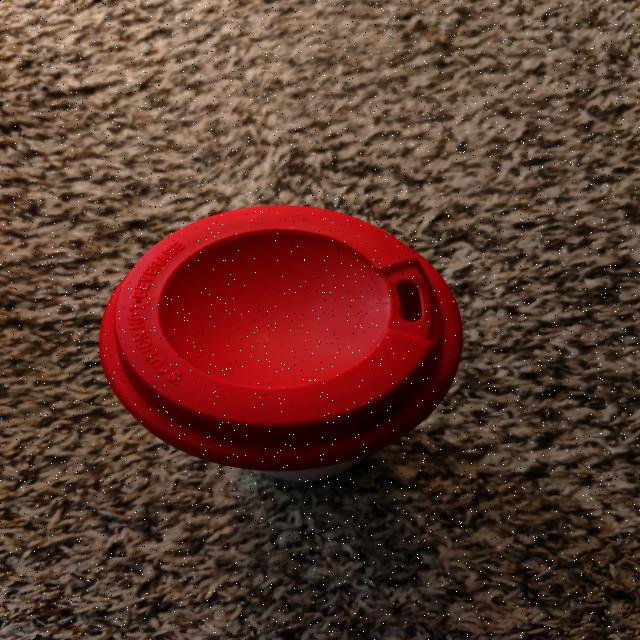mug: (109, 202, 448, 480)
